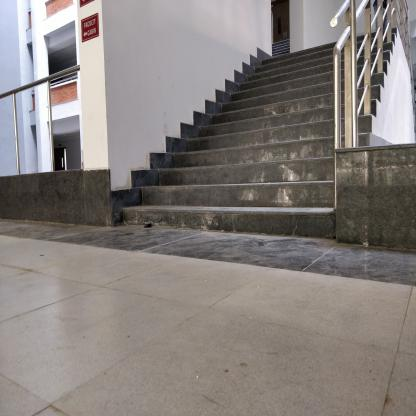stairs: (261, 52, 331, 244)
